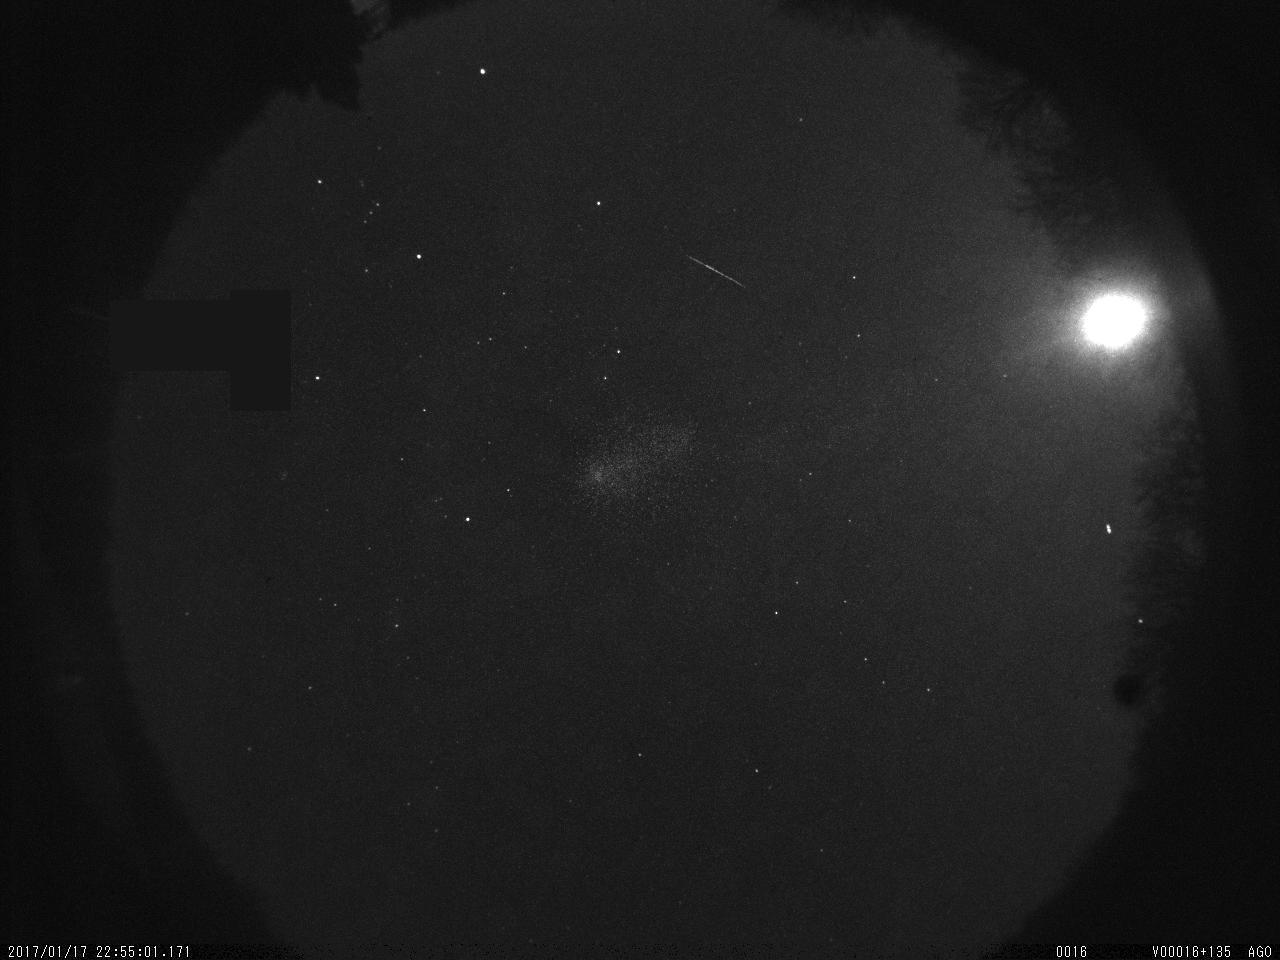meteor: (681, 248, 754, 302)
